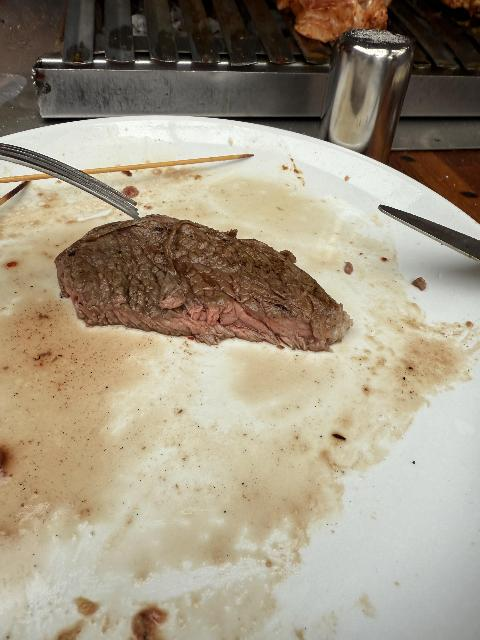Organik: (51, 216, 335, 337)
